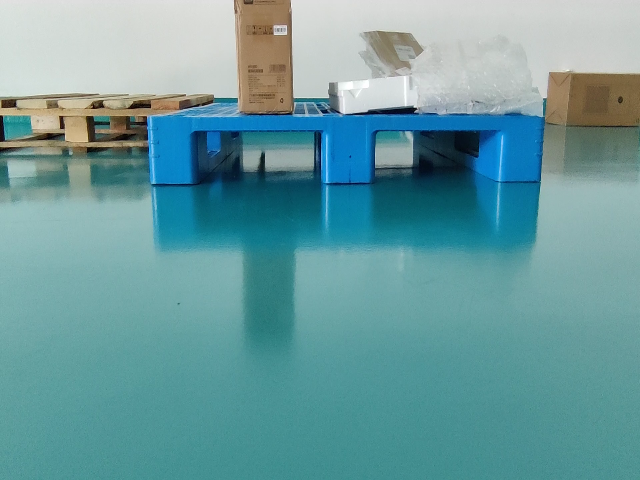block: (319, 115, 374, 184), (146, 113, 196, 188), (495, 115, 544, 187)
front: (148, 116, 542, 185)
hole pallet: (373, 129, 501, 185), (195, 128, 327, 181)
